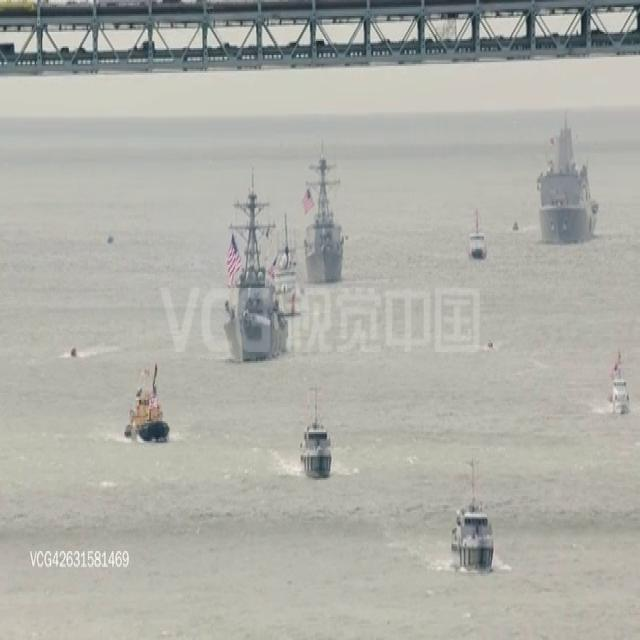houseboat: (452, 473, 495, 567), (123, 362, 172, 441), (269, 218, 304, 316), (298, 384, 334, 478), (609, 361, 631, 415), (465, 208, 489, 255), (68, 342, 77, 361), (486, 336, 496, 352), (511, 218, 521, 231)
navalvessels: (224, 179, 284, 362), (538, 119, 602, 238), (303, 146, 347, 279)
